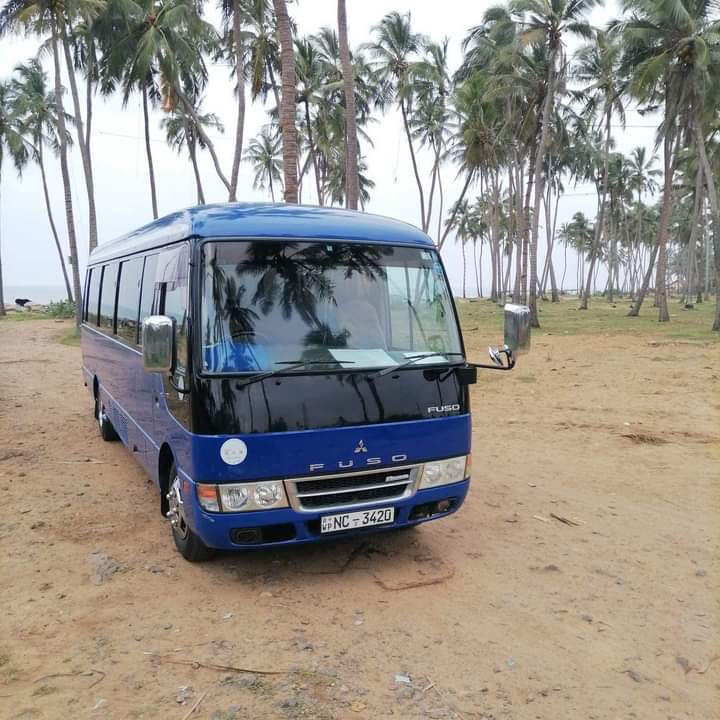number_plate: (320, 511, 397, 530)
